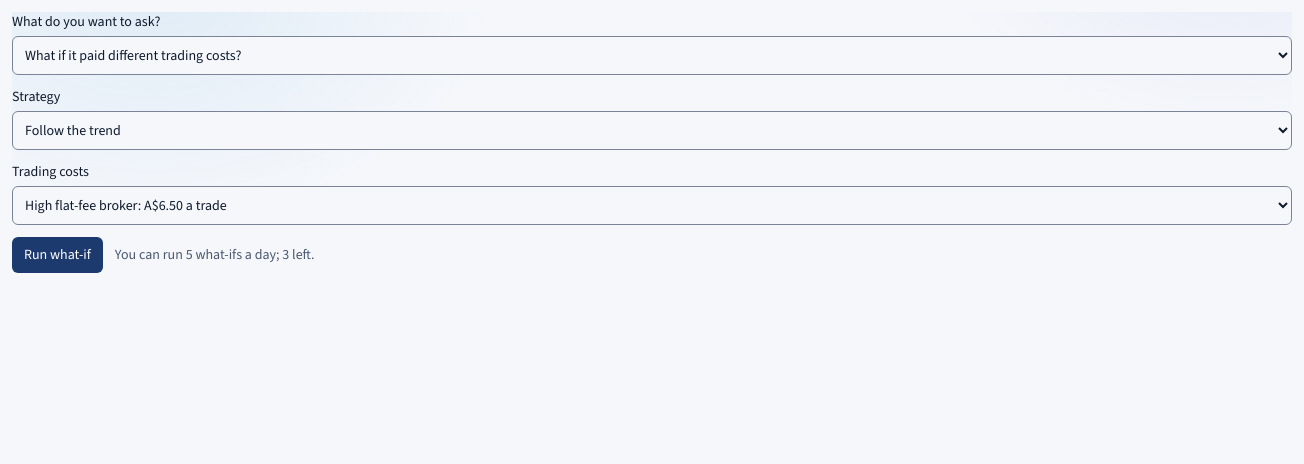
Test: what-if form › shows the answer with a Simulated label and the count left
Check: the message shows "5 what-ifs a day; 3 left", box [115,245,314,265]
Click the button "Run what-if". click: click(57, 255)
box: [12,237,103,273]
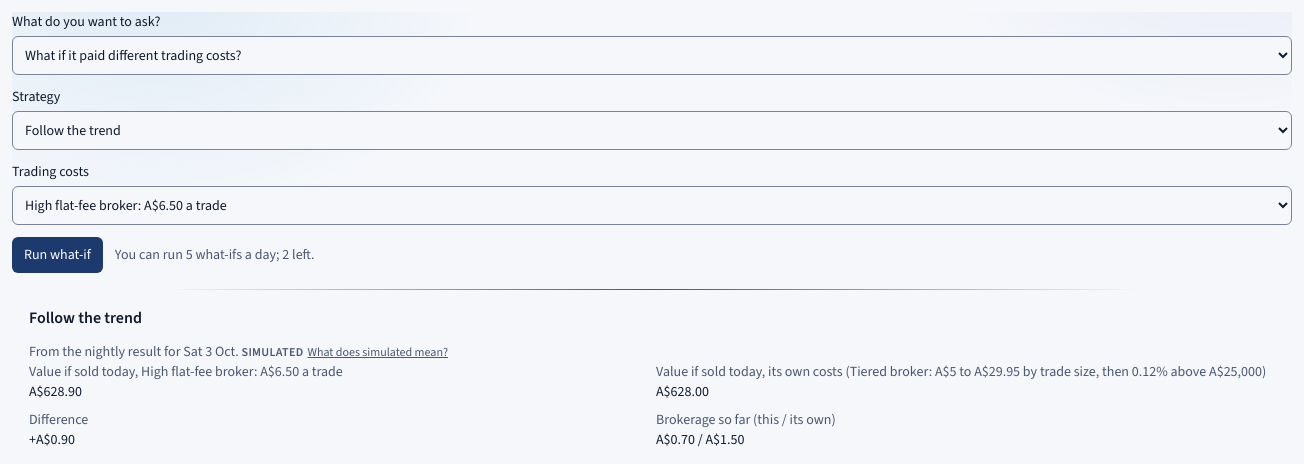
Check: the text "From the nightly result for Sat 3 Oct" is shown, box [29,342,448,361]
Check: the text "Simulated" is shown, box [242,344,304,360]
Check: the message shows "5 what-ifs a day; 2 left", box [115,245,314,265]
